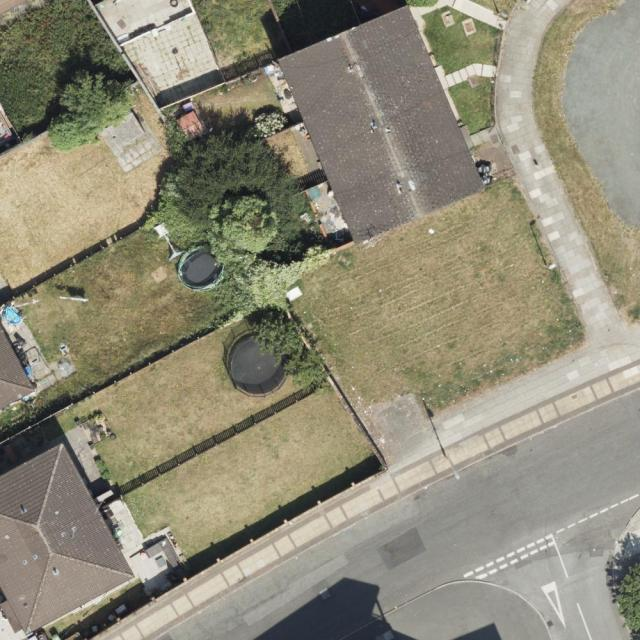roof: (274, 7, 489, 246), (0, 442, 136, 639), (0, 322, 33, 411)
